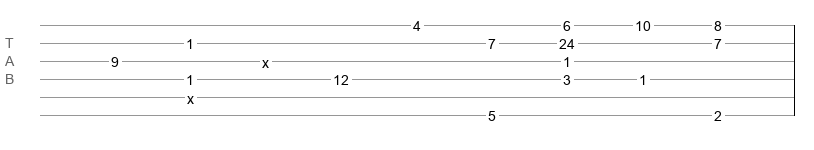1: (186, 72, 194, 82), (186, 36, 194, 46), (563, 54, 571, 64), (639, 72, 647, 82)
10: (635, 18, 651, 28)
12: (333, 72, 349, 82)
2: (714, 108, 722, 118)
24: (559, 36, 575, 46)
3: (563, 72, 571, 82)
4: (413, 18, 421, 28)
5: (488, 108, 496, 118)
6: (563, 18, 571, 28)
7: (488, 36, 496, 46), (714, 36, 722, 46)
8: (714, 18, 722, 28)
9: (111, 54, 119, 64)
x: (187, 91, 194, 99), (262, 55, 269, 63)
